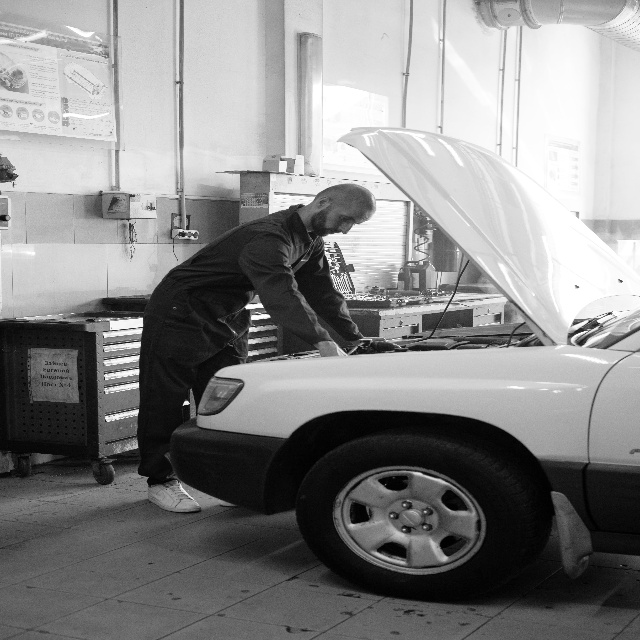Sin_guantes: (317, 339, 348, 358)
